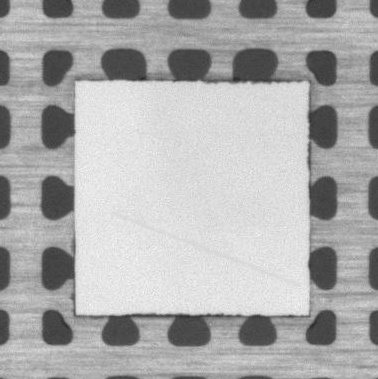DIE_CRACK: (113, 214, 298, 286)
